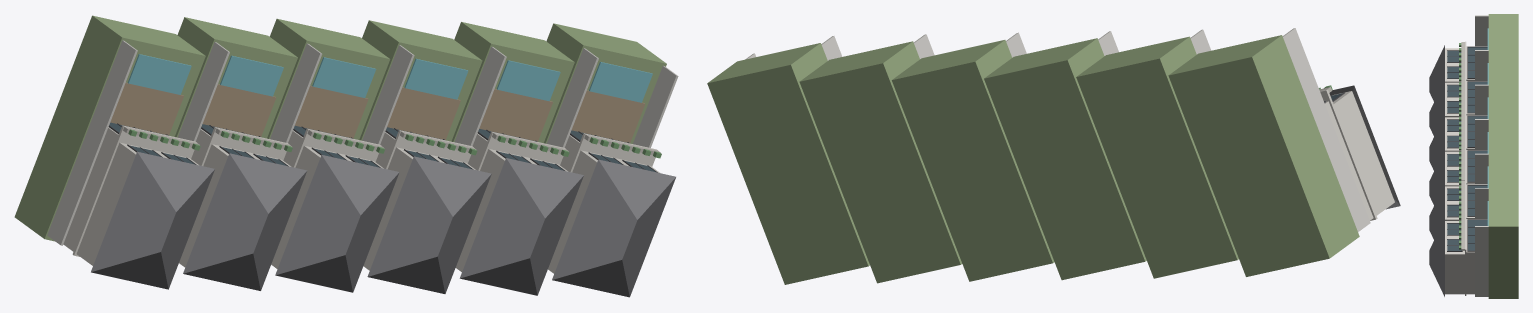
Rendered from citrine.glb.
The picture shows the model from 3 angles, left to right: view 1: azimuth 30°, elevation 25°; view 2: azimuth 150°, elevation 25°; view 3: azimuth 270°, elevation 25°; orthographic projection. The views are drawn at different scales.
Size of the model in its own units: 50.3 by 26.4 by 12.5.
